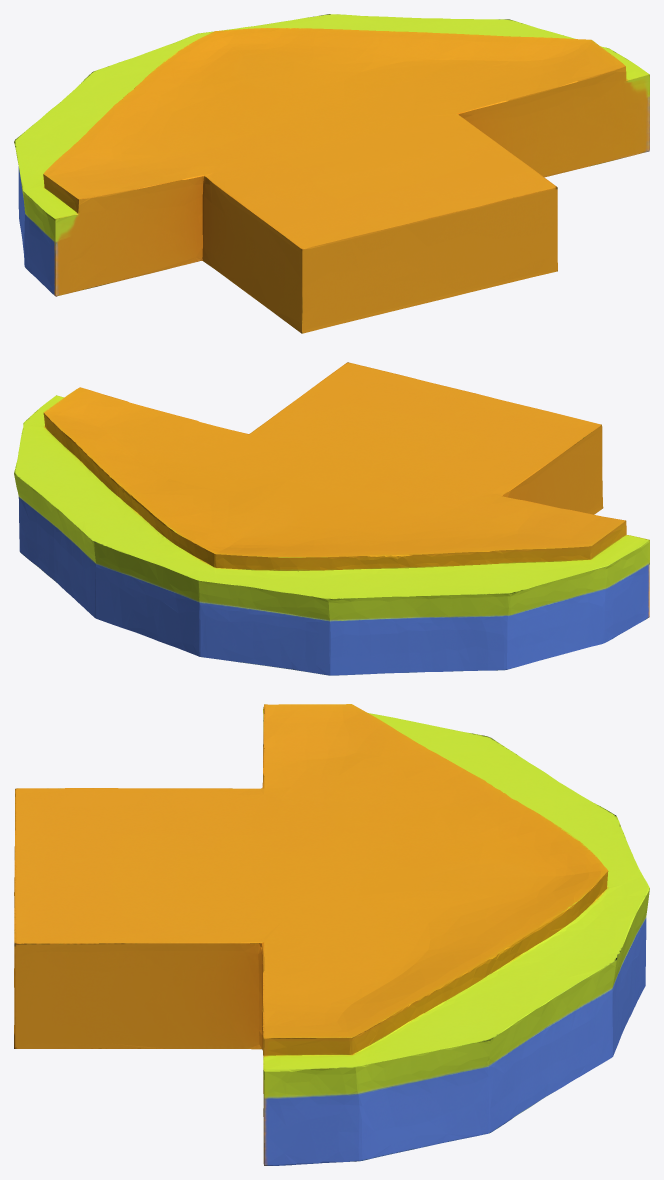
File: Copilot3D-dc0a2a53-3b29-47ea-820f-165d7a0799bf.glb
3 views of the same model, one above another, from view 1: azimuth 30°, elevation 25°; view 2: azimuth 150°, elevation 25°; view 3: azimuth 270°, elevation 25° (orthographic). The views are drawn at different scales.
Parts seen in each view (by area): view 1: world; view 2: world; view 3: world.
Boxes of the visible parts, x1,y1,x2,y2 form: world: (14,14,649,333); world: (14,362,649,675); world: (14,704,649,1165).
Bounding box in the file's own units: 1 × 0.1485 × 0.7416.
Materials: 1 (1 with a texture image).
